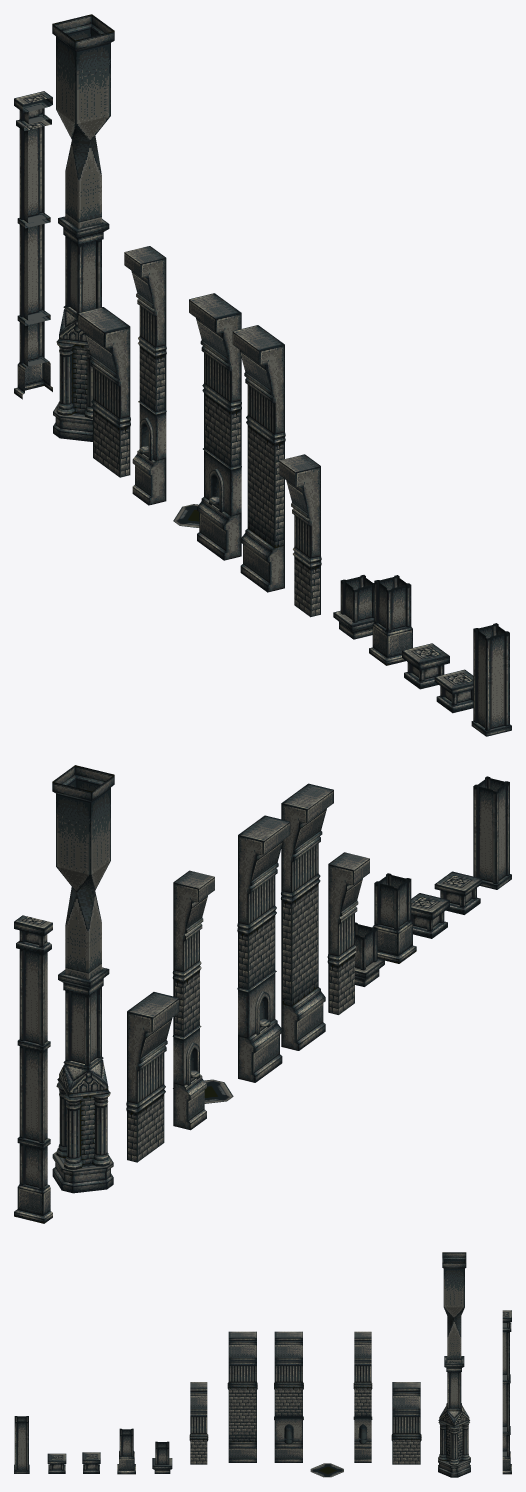
Rendered from EnvMdrMD_Daiseidou_A_Pillar_A.FBX.
The picture shows the model from 3 angles, top to bottom: view 1: azimuth 30°, elevation 25°; view 2: azimuth 150°, elevation 25°; view 3: azimuth 270°, elevation 25°; orthographic projection. The views are drawn at different scales.
Parts seen in each view (by area): view 1: EnvMdrMD_Daiseidou_A_Pillar_C, EnvMdrMD_Daiseidou_A_Pillar_A_NoCandle, EnvMdrMD_Daiseidou_A_Pillar_A, EnvMdrMD_Daiseidou_A_Pillar_B_SideHalf_A, EnvMdrMD_Daiseidou_A_Pillar_A_Half, EnvMdrMD_Daiseidou_A_Pillar_A_Top, EnvMdrMD_Daiseidou_A_Pillar_A_Top_Half, EnvMdrMD_Daiseidou_A_Pillar_B_Loop_A, EnvMdrMD_Daiseidou_A_Pillar_B_Start_A, EnvMdrMD_Daiseidou_A_Pillar_B_Loop_B, EnvMdrMD_Daiseidou_A_Pillar_B_End_A, EnvMdrMD_Daiseidou_A_Pillar_B_End_B; view 2: EnvMdrMD_Daiseidou_A_Pillar_C, EnvMdrMD_Daiseidou_A_Pillar_A, EnvMdrMD_Daiseidou_A_Pillar_A_NoCandle, EnvMdrMD_Daiseidou_A_Pillar_B_SideHalf_A, EnvMdrMD_Daiseidou_A_Pillar_A_Half, EnvMdrMD_Daiseidou_A_Pillar_A_Top, EnvMdrMD_Daiseidou_A_Pillar_A_Top_Half, EnvMdrMD_Daiseidou_A_Pillar_B_Loop_A, EnvMdrMD_Daiseidou_A_Pillar_B_Start_A, EnvMdrMD_Daiseidou_A_Pillar_B_Loop_B, EnvMdrMD_Daiseidou_A_Pillar_B_End_A, EnvMdrMD_Daiseidou_A_Pillar_B_End_B (+1 smaller); view 3: EnvMdrMD_Daiseidou_A_Pillar_C, EnvMdrMD_Daiseidou_A_Pillar_A_NoCandle, EnvMdrMD_Daiseidou_A_Pillar_A, EnvMdrMD_Daiseidou_A_Pillar_A_Top, EnvMdrMD_Daiseidou_A_Pillar_A_Half, EnvMdrMD_Daiseidou_A_Pillar_A_Top_Half, EnvMdrMD_Daiseidou_A_Pillar_B_SideHalf_A, EnvMdrMD_Daiseidou_A_Pillar_B_Loop_A, EnvMdrMD_Daiseidou_A_Pillar_B_Start_A, EnvMdrMD_Daiseidou_A_Pillar_B_Loop_B, EnvMdrMD_Daiseidou_A_Pillar_B_End_A, EnvMdrMD_Daiseidou_A_Pillar_B_End_B (+1 smaller).
Boxes of the visible parts, x1=… form: EnvMdrMD_Daiseidou_A_Pillar_C: x1=52, y1=14, x2=114, y2=441; EnvMdrMD_Daiseidou_A_Pillar_A_NoCandle: x1=232, y1=325, x2=285, y2=592; EnvMdrMD_Daiseidou_A_Pillar_A: x1=189, y1=293, x2=241, y2=560; EnvMdrMD_Daiseidou_A_Pillar_B_SideHalf_A: x1=14, y1=91, x2=52, y2=399; EnvMdrMD_Daiseidou_A_Pillar_A_Half: x1=124, y1=246, x2=166, y2=505; EnvMdrMD_Daiseidou_A_Pillar_A_Top: x1=78, y1=307, x2=130, y2=477; EnvMdrMD_Daiseidou_A_Pillar_A_Top_Half: x1=279, y1=454, x2=321, y2=617; EnvMdrMD_Daiseidou_A_Pillar_B_Loop_A: x1=471, y1=623, x2=511, y2=736; EnvMdrMD_Daiseidou_A_Pillar_B_Start_A: x1=369, y1=575, x2=412, y2=665; EnvMdrMD_Daiseidou_A_Pillar_B_Loop_B: x1=333, y1=575, x2=374, y2=639; EnvMdrMD_Daiseidou_A_Pillar_B_End_A: x1=402, y1=643, x2=449, y2=689; EnvMdrMD_Daiseidou_A_Pillar_B_End_B: x1=434, y1=669, x2=473, y2=713; EnvMdrMD_Daiseidou_A_Pillar_C: x1=52, y1=765, x2=114, y2=1193; EnvMdrMD_Daiseidou_A_Pillar_A: x1=237, y1=815, x2=290, y2=1082; EnvMdrMD_Daiseidou_A_Pillar_A_NoCandle: x1=281, y1=783, x2=333, y2=1050; EnvMdrMD_Daiseidou_A_Pillar_B_SideHalf_A: x1=14, y1=915, x2=52, y2=1223; EnvMdrMD_Daiseidou_A_Pillar_A_Half: x1=172, y1=870, x2=214, y2=1130; EnvMdrMD_Daiseidou_A_Pillar_A_Top: x1=126, y1=992, x2=179, y2=1162; EnvMdrMD_Daiseidou_A_Pillar_A_Top_Half: x1=327, y1=852, x2=369, y2=1014; EnvMdrMD_Daiseidou_A_Pillar_B_Loop_A: x1=473, y1=776, x2=511, y2=889; EnvMdrMD_Daiseidou_A_Pillar_B_Start_A: x1=373, y1=873, x2=416, y2=963; EnvMdrMD_Daiseidou_A_Pillar_B_Loop_B: x1=355, y1=922, x2=384, y2=986; EnvMdrMD_Daiseidou_A_Pillar_B_End_A: x1=411, y1=893, x2=449, y2=938; EnvMdrMD_Daiseidou_A_Pillar_B_End_B: x1=434, y1=871, x2=482, y2=914; EnvMdrMD_Daiseidou_A_Pillar_C: x1=438, y1=1252, x2=470, y2=1477; EnvMdrMD_Daiseidou_A_Pillar_A_NoCandle: x1=227, y1=1331, x2=257, y2=1462; EnvMdrMD_Daiseidou_A_Pillar_A: x1=274, y1=1331, x2=303, y2=1462; EnvMdrMD_Daiseidou_A_Pillar_A_Top: x1=391, y1=1382, x2=421, y2=1464; EnvMdrMD_Daiseidou_A_Pillar_A_Half: x1=353, y1=1331, x2=372, y2=1462; EnvMdrMD_Daiseidou_A_Pillar_A_Top_Half: x1=189, y1=1382, x2=208, y2=1464; EnvMdrMD_Daiseidou_A_Pillar_B_SideHalf_A: x1=502, y1=1310, x2=511, y2=1474; EnvMdrMD_Daiseidou_A_Pillar_B_Loop_A: x1=14, y1=1416, x2=29, y2=1473; EnvMdrMD_Daiseidou_A_Pillar_B_Start_A: x1=117, y1=1428, x2=135, y2=1474; EnvMdrMD_Daiseidou_A_Pillar_B_Loop_B: x1=152, y1=1441, x2=172, y2=1473; EnvMdrMD_Daiseidou_A_Pillar_B_End_A: x1=82, y1=1452, x2=100, y2=1473; EnvMdrMD_Daiseidou_A_Pillar_B_End_B: x1=47, y1=1453, x2=66, y2=1473.
Size of the model in its own units: 278 by 1650 by 3496.
1 material, 1 textured.
